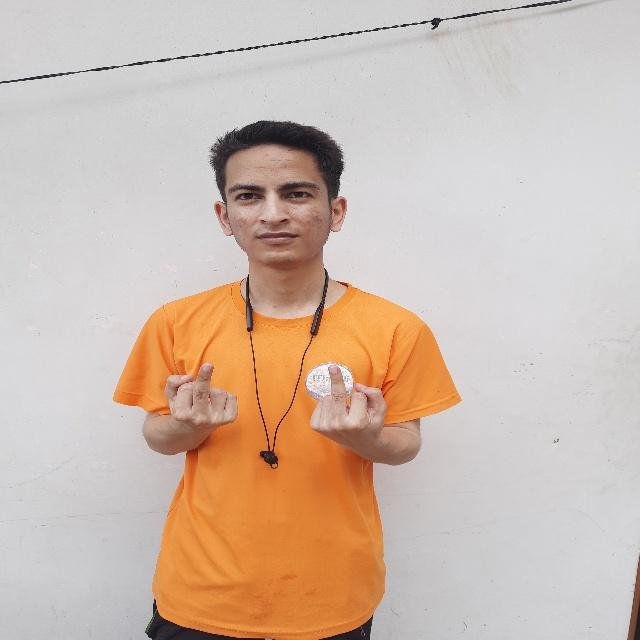Middle Finger: (304, 358, 394, 453), (157, 359, 240, 442)
